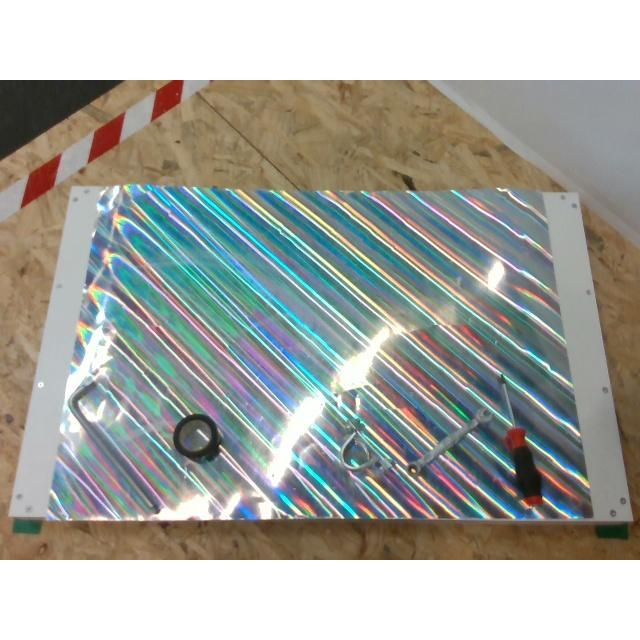AllenKey: (66, 381, 162, 519)
Housing: (338, 416, 392, 472)
Wrench: (408, 408, 492, 472)
